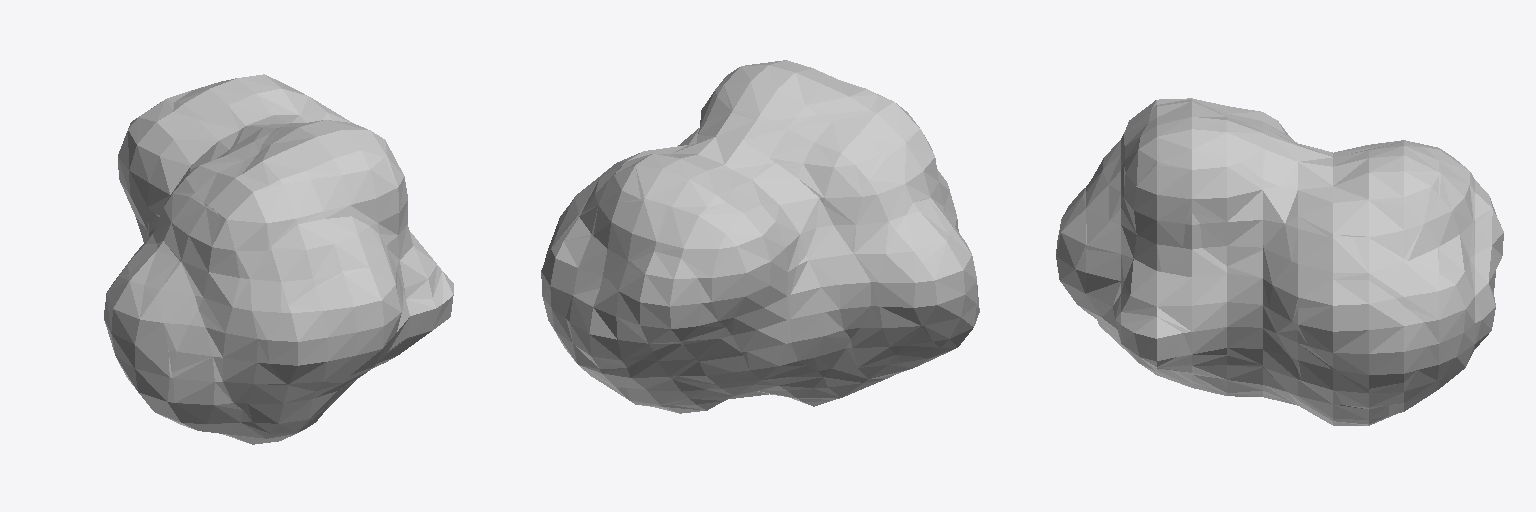
Rendered from 2fqx_mb_cms.obj.
3 views of the same model, side by side, from view 1: azimuth 30°, elevation 25°; view 2: azimuth 150°, elevation 25°; view 3: azimuth 270°, elevation 25° (orthographic).
Size of the model in its own units: 61.85 by 51.15 by 70.18.